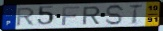5: (37, 5, 56, 28)
F: (61, 5, 81, 26)
R: (15, 7, 37, 28), (82, 6, 102, 26)
S: (105, 4, 126, 26)
T: (128, 4, 144, 25)
